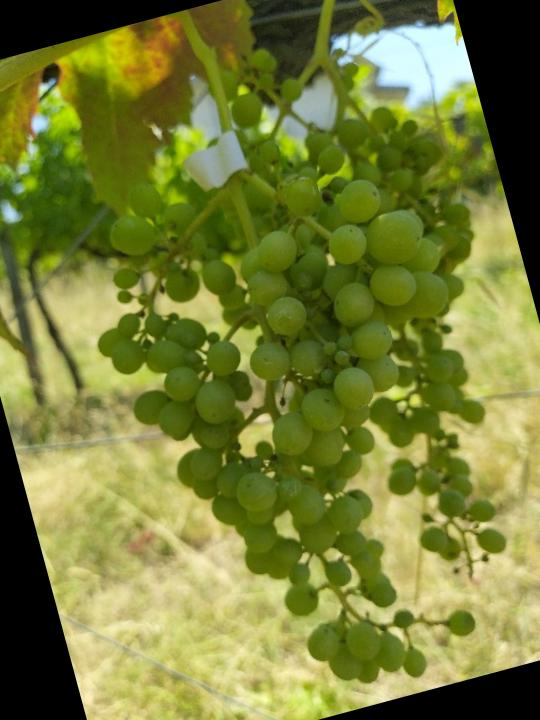grape: (51, 109, 540, 720)
